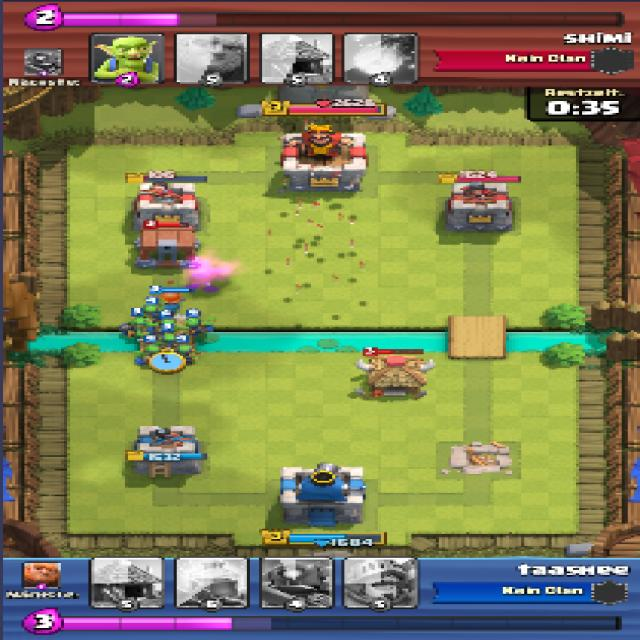Enemy-Arrow: (259, 199, 364, 296)
Enemy-GoblinHut: (350, 353, 438, 398)
Player-GoblinCage: (130, 224, 203, 270)
Player-SpearGoblin: (132, 343, 166, 367), (178, 319, 212, 336), (119, 317, 149, 336), (175, 343, 197, 367), (138, 302, 163, 321), (153, 319, 178, 337), (153, 333, 177, 349)
Player-Valkyrie: (153, 292, 187, 312)
